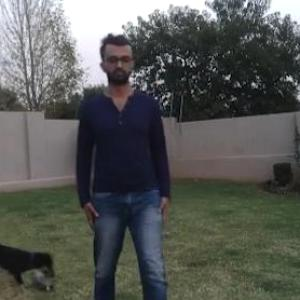follow: (74, 32, 170, 299)
